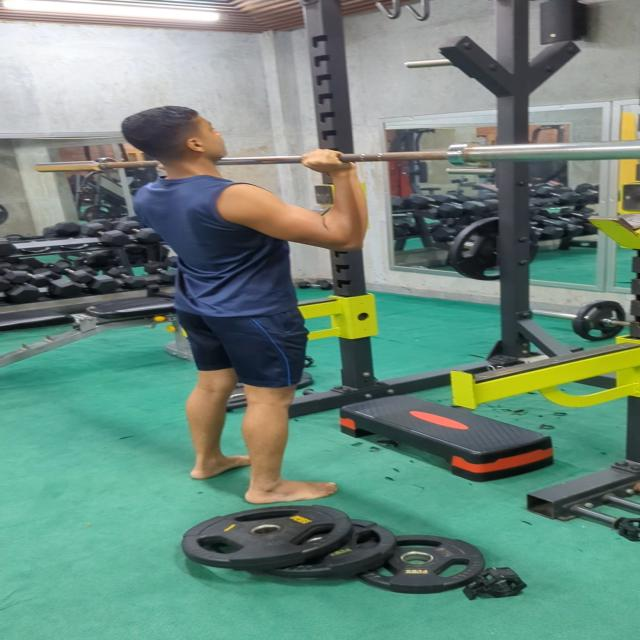Normal_OverheadPress: (104, 100, 385, 508)
